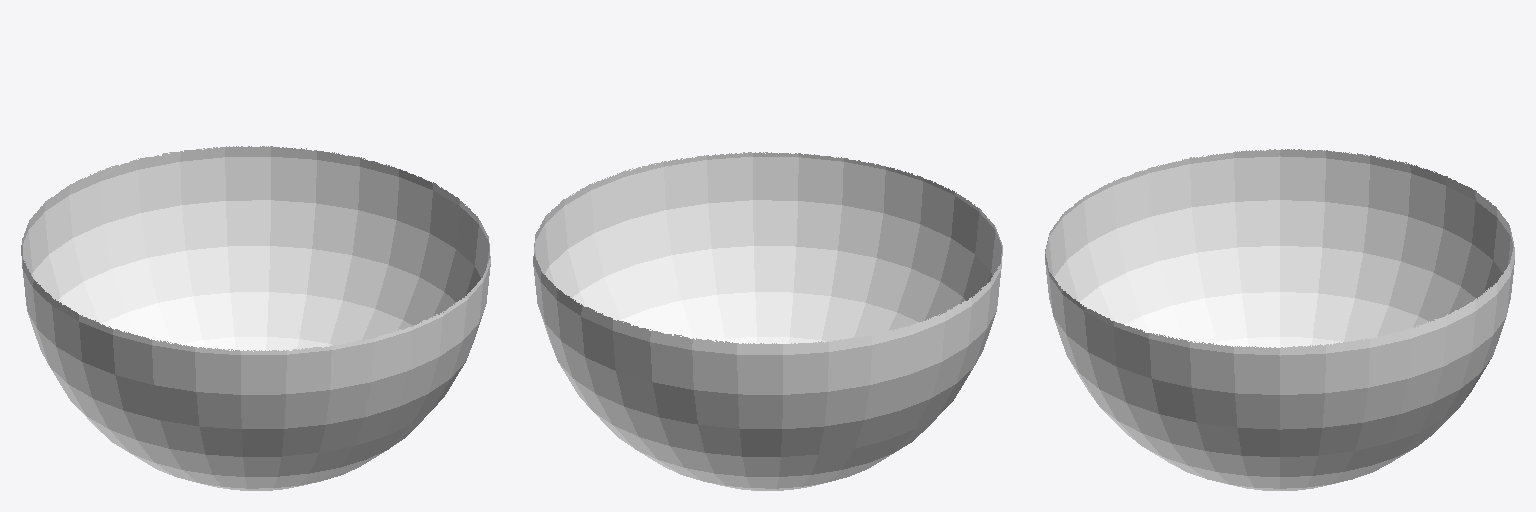
3 renders of one model, left to right at view 1: azimuth 30°, elevation 25°; view 2: azimuth 150°, elevation 25°; view 3: azimuth 270°, elevation 25°, orthographic.
Visible parts, largest first — view 1: Sphere; view 2: Sphere; view 3: Sphere.
Part boxes in pixels (left/top/right/bottom): Sphere: left=21, top=146, right=490, bottom=490; Sphere: left=533, top=152, right=1002, bottom=490; Sphere: left=1045, top=149, right=1514, bottom=490.
Bounding box in the file's own units: 2 × 2 × 2.
Materials: 1 (1 with a texture image).